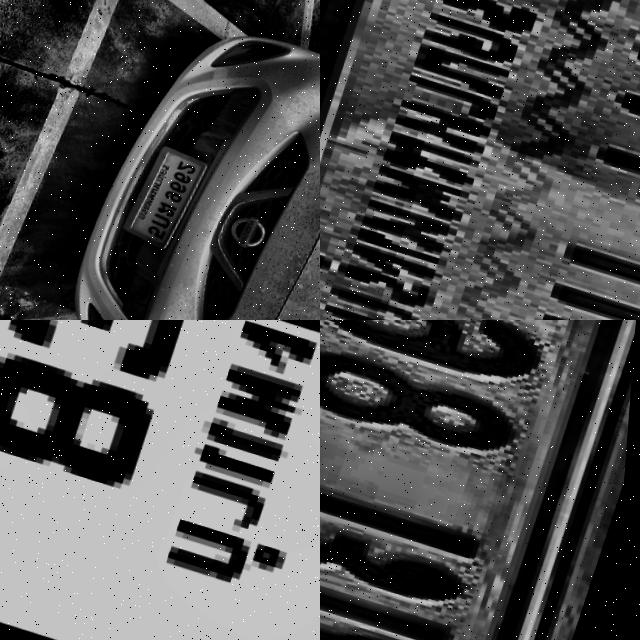license-plate: (320, 0, 640, 320), (0, 320, 320, 640), (320, 320, 640, 640), (122, 134, 217, 252)
